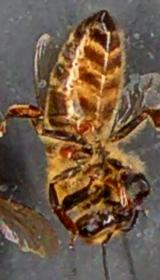varroa_mite: (58, 138, 84, 168), (72, 107, 94, 138)
